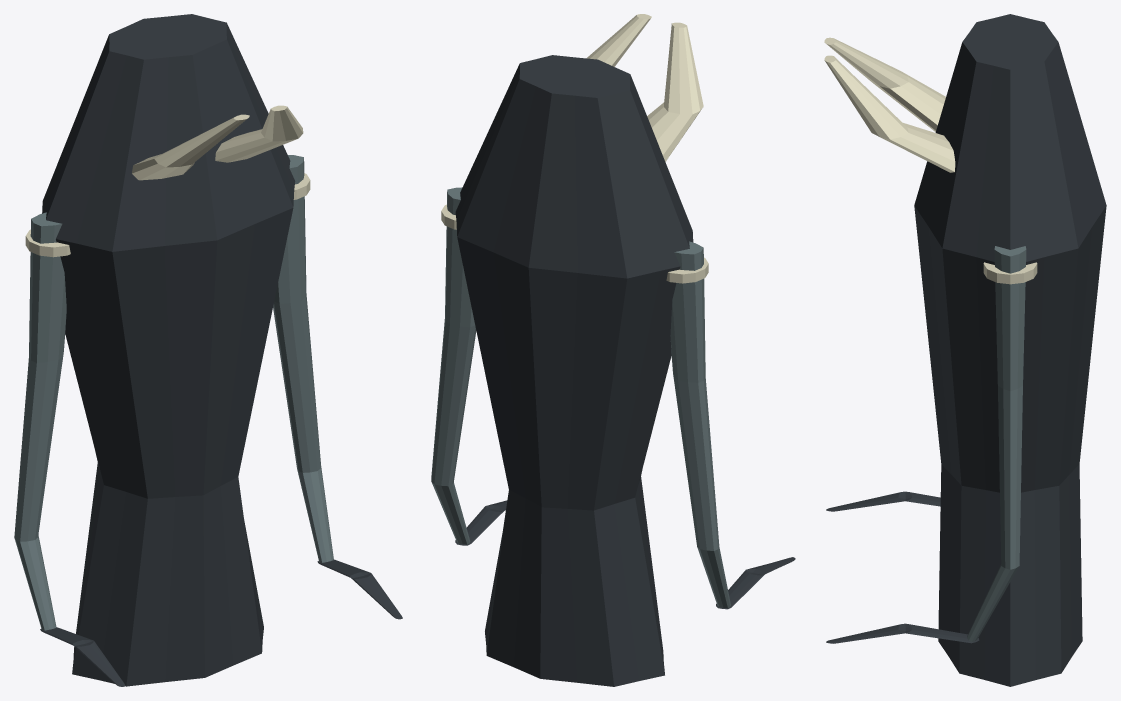
The model's file is wickdrinker.fbx.
3 renders of one model, left to right at view 1: azimuth 30°, elevation 25°; view 2: azimuth 150°, elevation 25°; view 3: azimuth 270°, elevation 25°, orthographic. The views are drawn at different scales.
Visible parts, largest first — view 1: quenched_cowl, arm_0_skin.002, arm_1_skin.002, wick_jaw_-1, wick_jaw_1, arm_0_hook.002, arm_1_hook.002, arm_0_joint.002; view 2: quenched_cowl, arm_0_skin.002, arm_1_skin.002, wick_jaw_-1, wick_jaw_1, arm_0_hook.002, arm_1_hook.002, arm_0_joint.002; view 3: quenched_cowl, arm_1_skin.002, wick_jaw_1, wick_jaw_-1, arm_1_hook.002, arm_0_hook.002, arm_1_joint.002.
Boxes of the visible parts, x1,y1,x2,y2 form: quenched_cowl: (42, 14, 295, 686); arm_0_skin.002: (14, 212, 66, 630); arm_1_skin.002: (273, 155, 333, 562); wick_jaw_-1: (132, 114, 249, 180); wick_jaw_1: (215, 105, 303, 162); arm_0_hook.002: (40, 627, 125, 686); arm_1_hook.002: (317, 559, 402, 619); arm_0_joint.002: (25, 229, 70, 257); quenched_cowl: (455, 55, 693, 686); arm_0_skin.002: (670, 241, 730, 608); arm_1_skin.002: (431, 187, 476, 544); wick_jaw_-1: (647, 22, 703, 161); wick_jaw_1: (586, 14, 651, 66); arm_0_hook.002: (716, 557, 795, 609); arm_1_hook.002: (455, 500, 507, 545); arm_0_joint.002: (666, 257, 708, 283); quenched_cowl: (914, 14, 1106, 686); arm_1_skin.002: (967, 246, 1026, 642); wick_jaw_1: (824, 55, 955, 172); wick_jaw_-1: (824, 37, 945, 131); arm_1_hook.002: (826, 623, 979, 643); arm_0_hook.002: (826, 491, 940, 511); arm_1_joint.002: (983, 262, 1037, 284).
Size of the model in its own units: 114 by 220 by 93.9.
